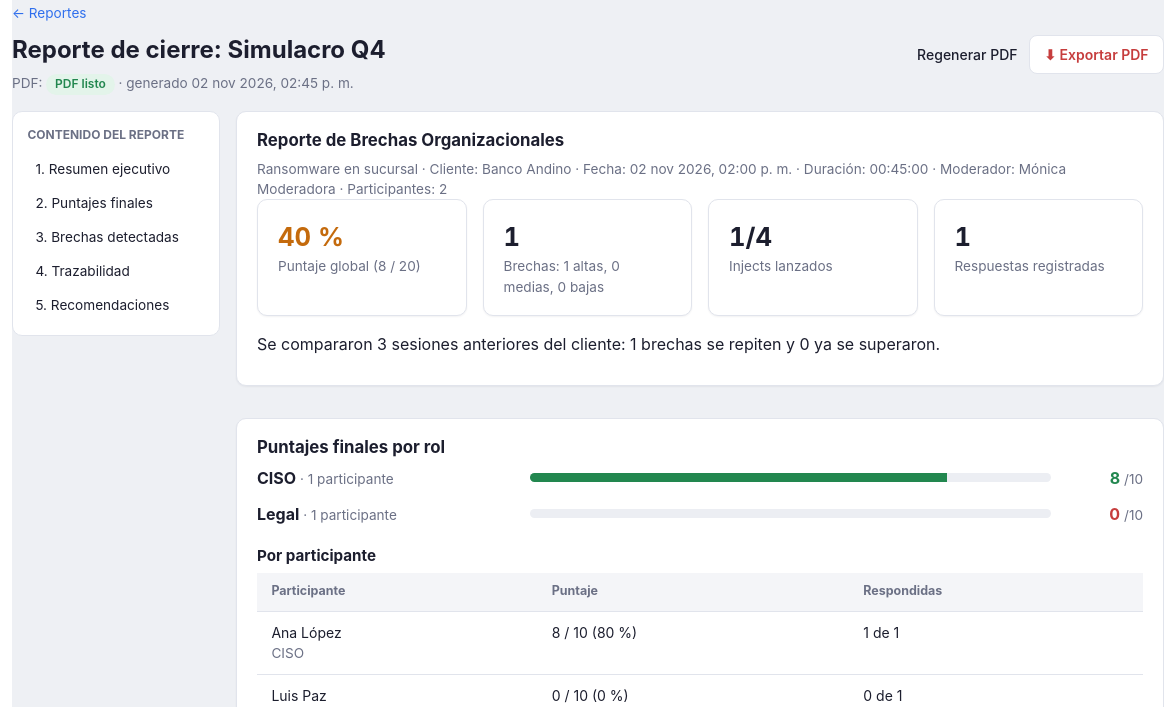
Test: Reporte de brechas › muestra el error si el PDF no se pudo generar
Click the button "Regenerar PDF": click(967, 55) [908, 35, 1026, 74]
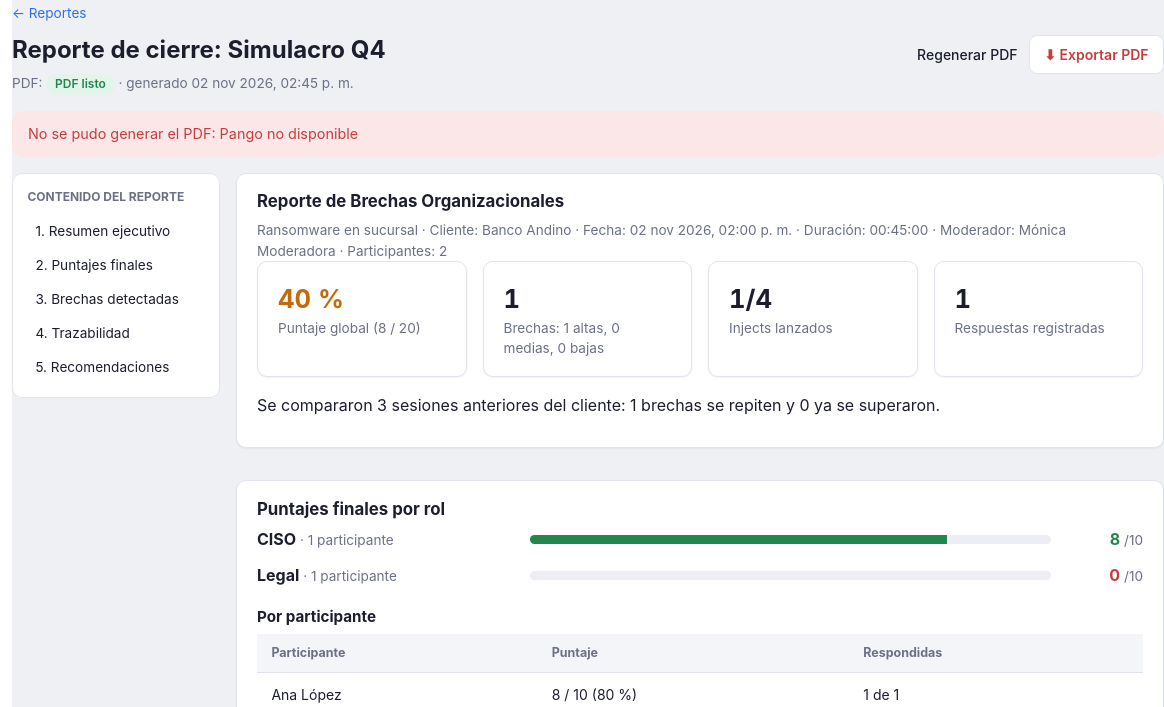
Expected: the text "No se pudo generar el PDF: Pango no disponible" is shown, [12, 111, 1163, 157]
